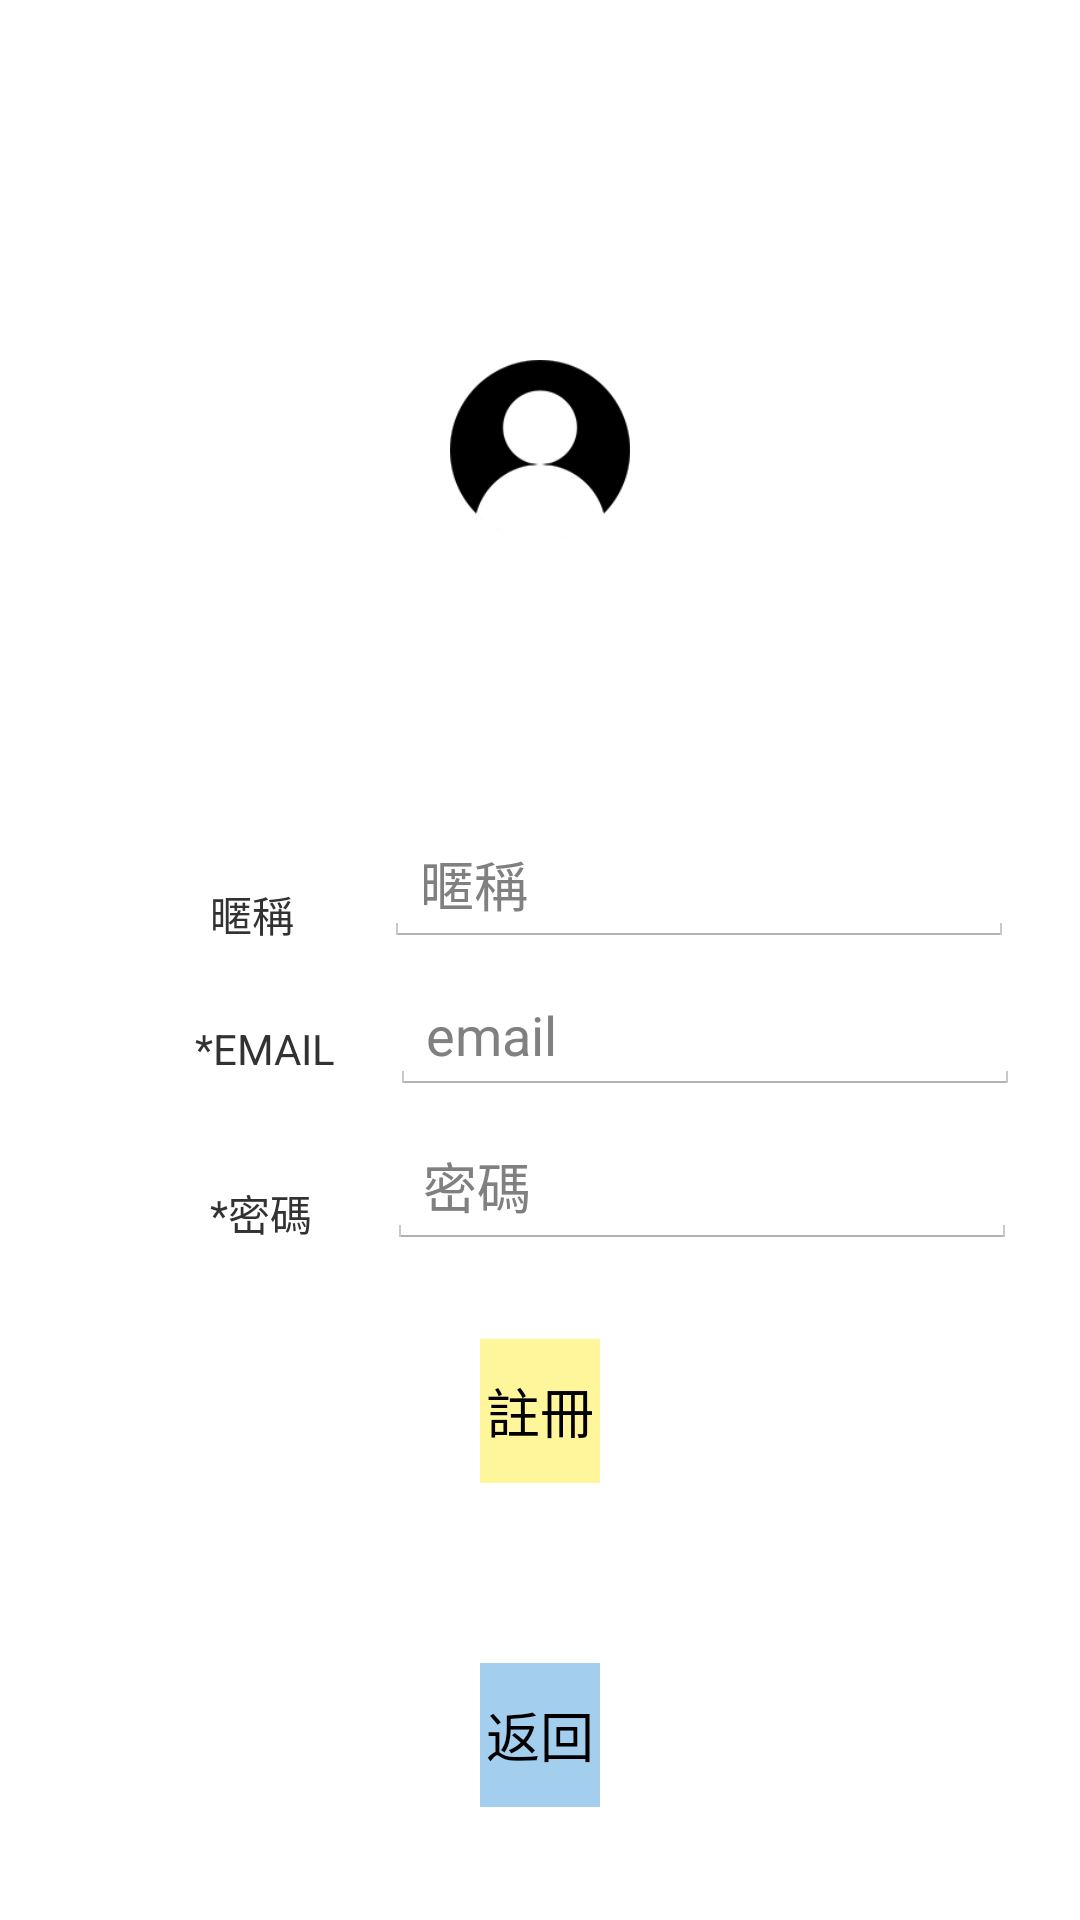

Where to tap for icons on this 1080x1920 app screen, as point (x, y):
user: point (540, 437)
